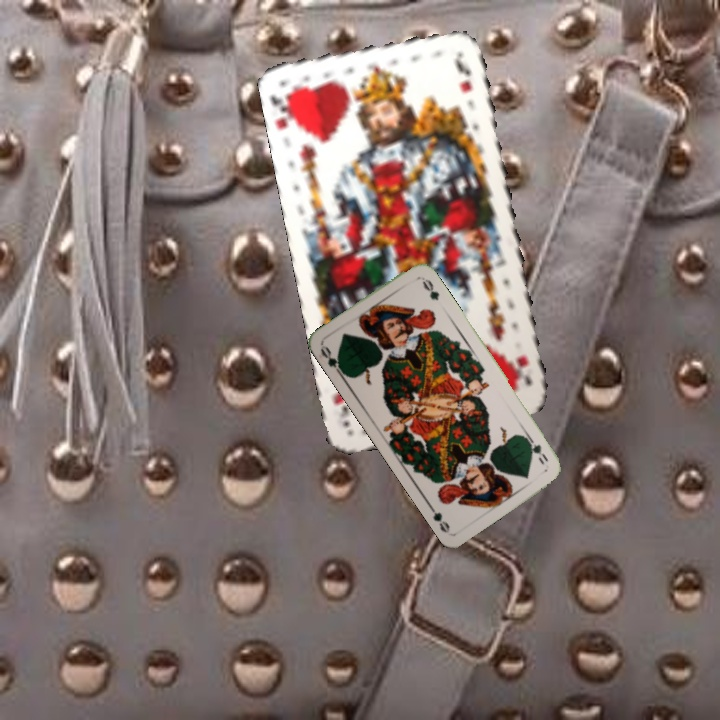GO: (316, 342, 347, 379), (521, 431, 551, 467)
HK: (267, 87, 301, 135), (508, 351, 535, 388)
